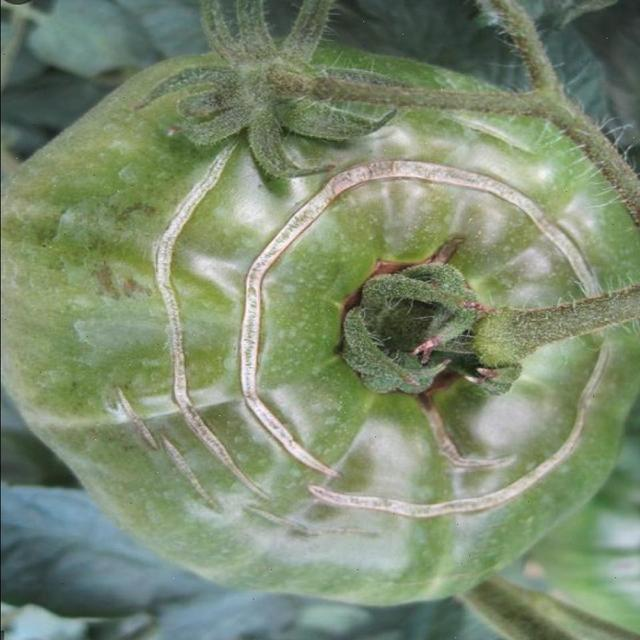Cracking Fruit: (117, 207, 277, 276)
